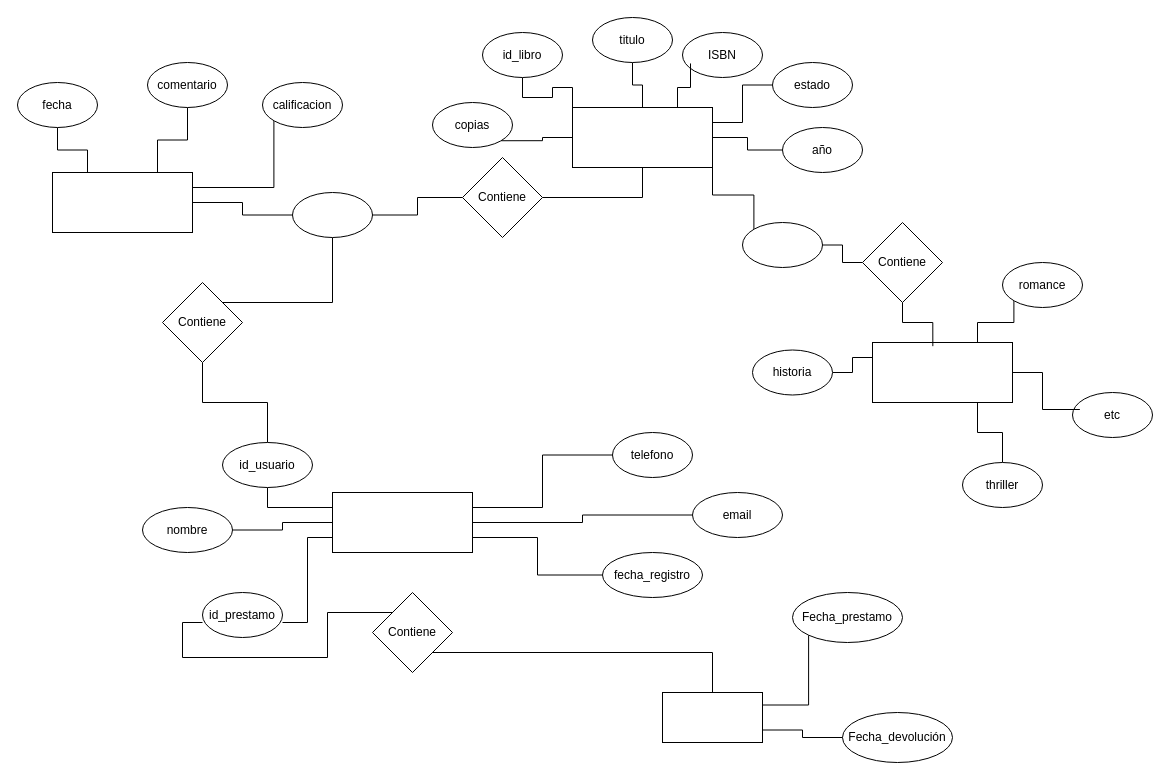
The diagram is 1170 pixels wide and 780 high, and some of its shapes have lost their labels. The shapes that lost their labels are listed below. From the top down, each one's centre as x and y in pixels, then its label:
the point at 642,137: Libro
the point at 122,202: Reseña
the point at 332,215: id
the point at 782,245: genero
the point at 942,372: Categorias
the point at 402,522: Usuario
the point at 712,717: prestamo
